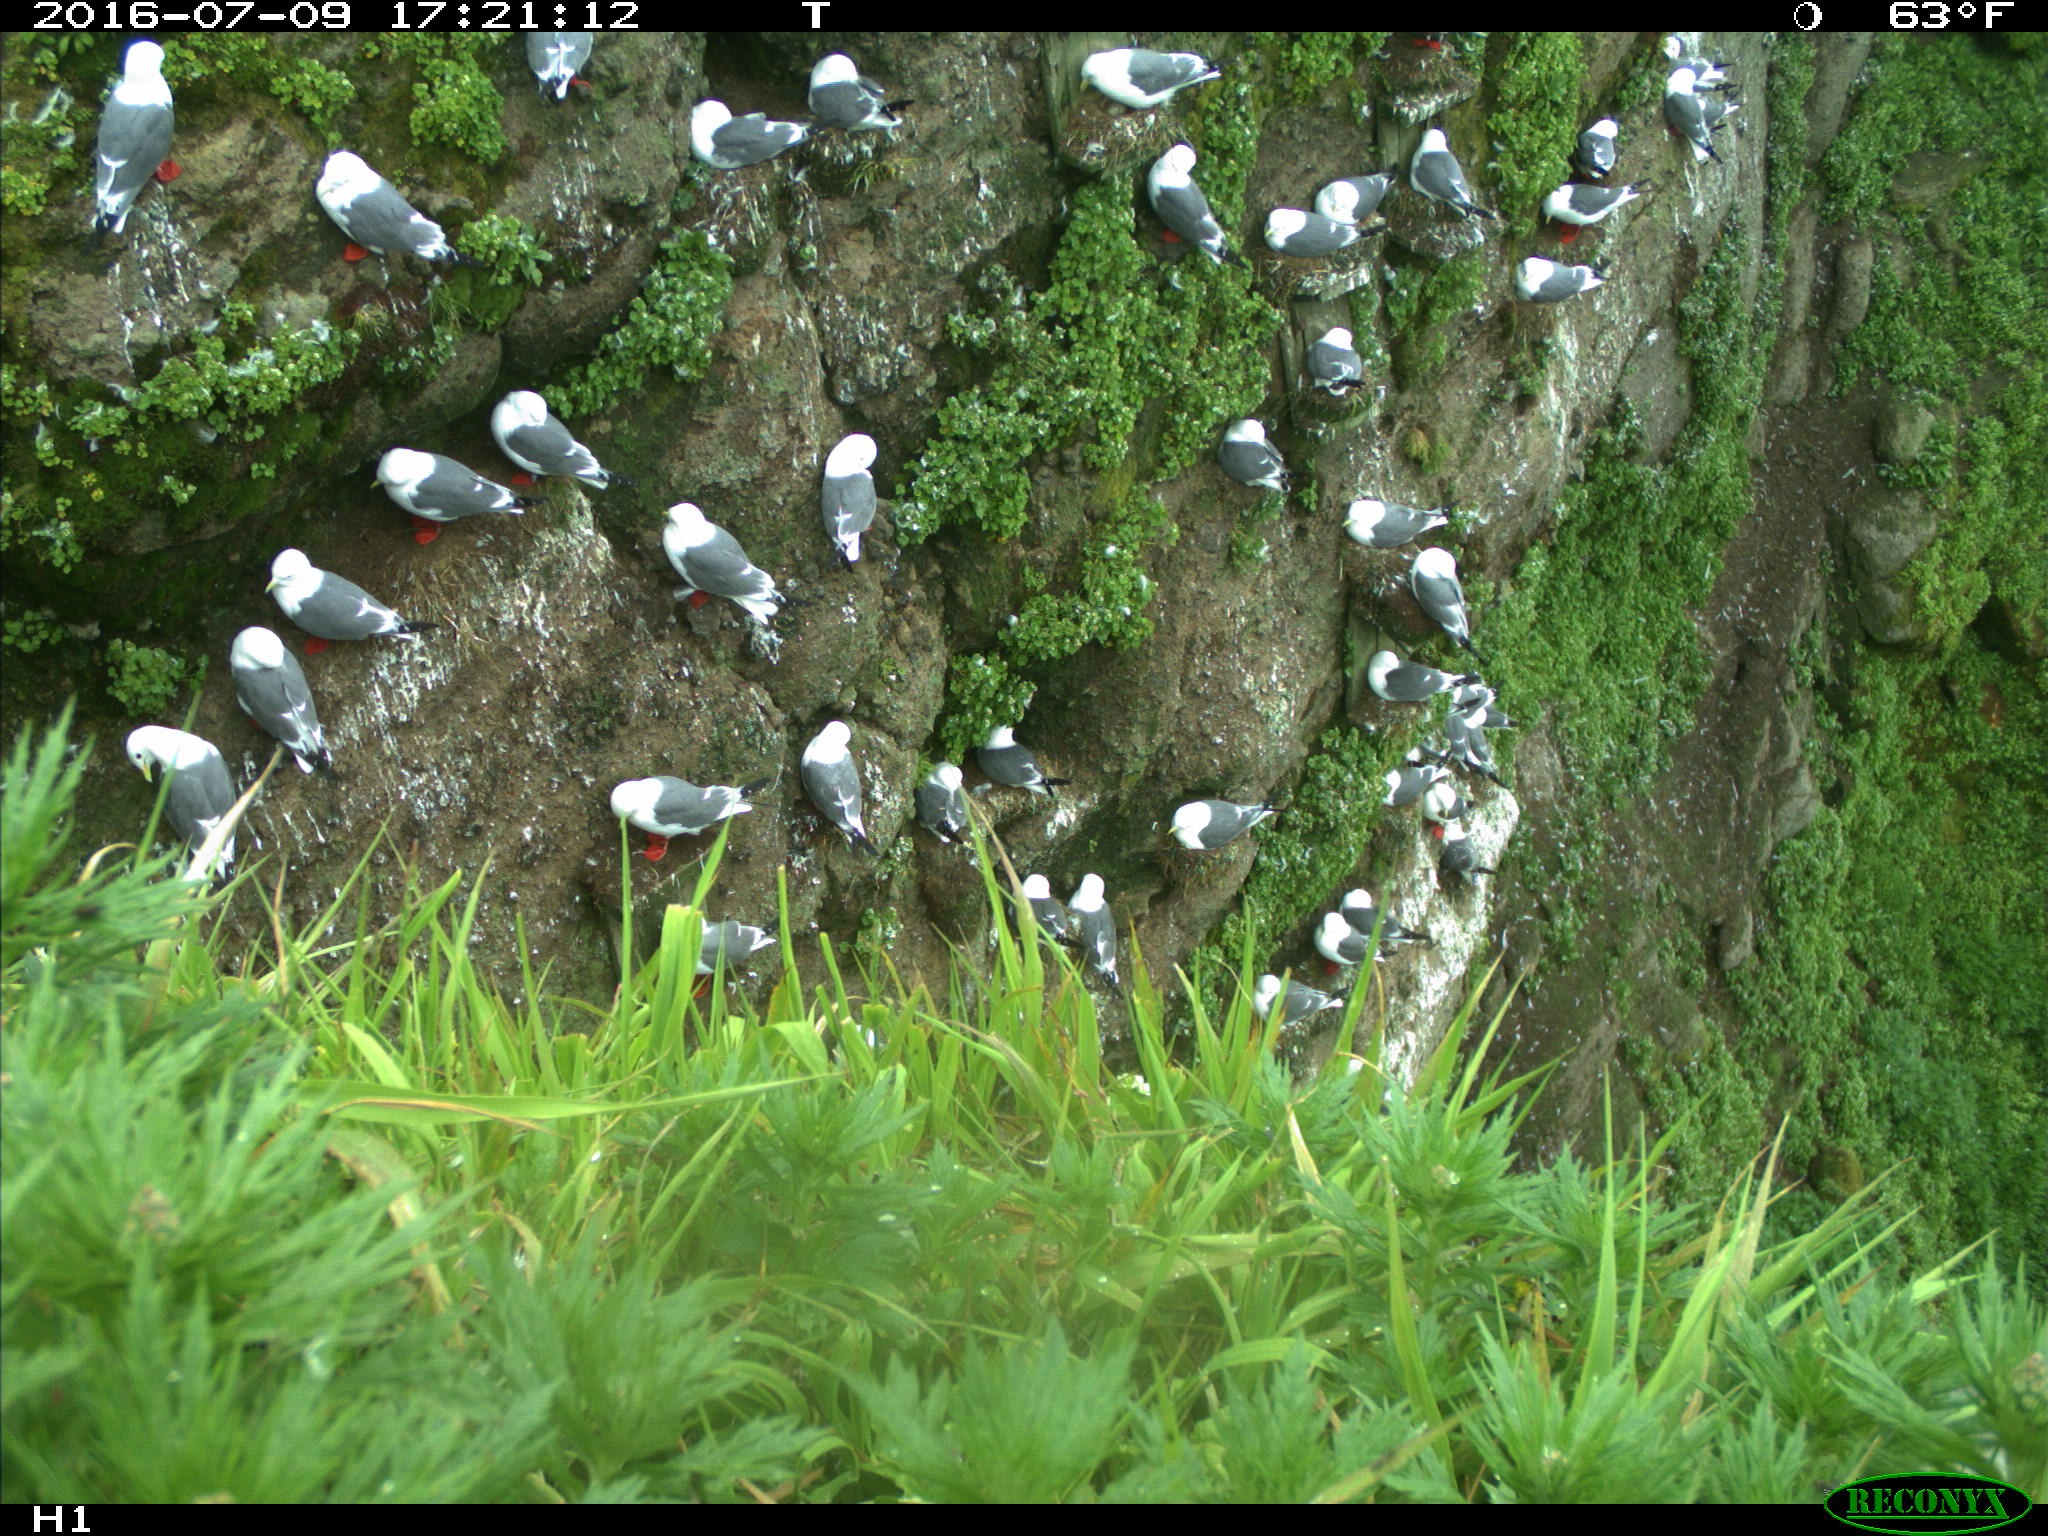Kittiwake: (227, 502, 431, 682), (116, 687, 274, 908), (273, 134, 492, 282), (55, 27, 198, 252), (647, 466, 795, 665), (195, 615, 343, 786), (463, 357, 610, 520), (347, 424, 492, 586), (826, 403, 956, 557), (605, 747, 760, 862), (677, 82, 843, 182), (1122, 123, 1238, 265), (1288, 303, 1405, 437), (785, 691, 874, 863), (1376, 123, 1517, 227), (790, 431, 882, 584), (955, 699, 1071, 816), (795, 47, 911, 161), (1213, 407, 1321, 529), (1243, 933, 1355, 1050), (1330, 623, 1476, 707), (1055, 45, 1205, 121), (1153, 784, 1280, 868), (1255, 187, 1371, 279), (1413, 532, 1513, 636), (1334, 474, 1426, 584), (1534, 157, 1672, 229), (905, 741, 990, 857), (655, 902, 782, 979), (1655, 56, 1734, 177), (1003, 842, 1089, 950), (1301, 140, 1395, 239), (1479, 252, 1608, 323), (1071, 849, 1130, 991), (1413, 813, 1521, 889), (1572, 82, 1663, 173), (1388, 766, 1500, 836), (1337, 865, 1422, 954), (1301, 904, 1387, 976), (516, 34, 597, 105)
